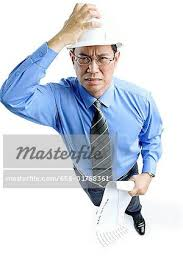Person_wearing_helmet: (59, 9, 129, 65)
